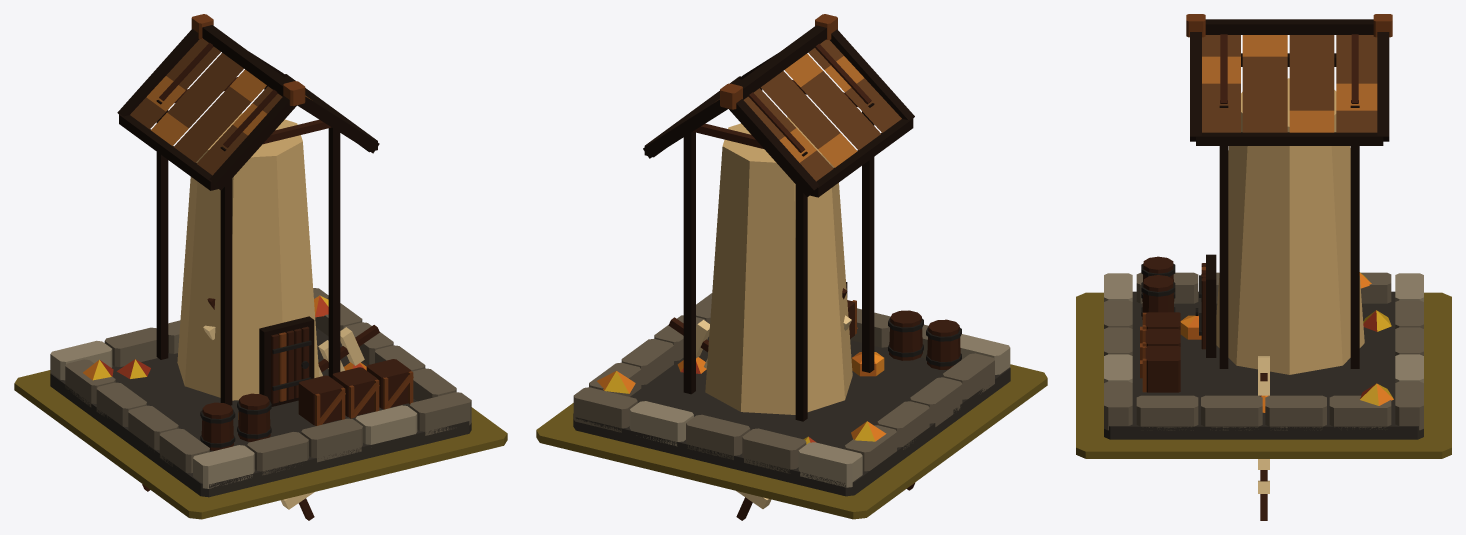
File: mill_t3.glb
The picture shows the model from 3 angles, left to right: view 1: azimuth 30°, elevation 25°; view 2: azimuth 150°, elevation 25°; view 3: azimuth 270°, elevation 25°; orthographic projection. The views are drawn at different scales.
Parts seen in each view (by area): view 1: MMR | mill | T03 Architecture.001, MMR | mill | Tier 03 Ground.001, MMR | mill | T03 Wind Rotor.001, MMR | mill | T03 Autumn Dressing.001; view 2: MMR | mill | T03 Architecture.001, MMR | mill | Tier 03 Ground.001, MMR | mill | T03 Autumn Dressing.001, MMR | mill | T03 Wind Rotor.001; view 3: MMR | mill | T03 Architecture.001, MMR | mill | Tier 03 Ground.001, MMR | mill | T03 Autumn Dressing.001, MMR | mill | T03 Wind Rotor.001.
Part boxes in pixels (x1,y1,x2,y2): MMR | mill | T03 Architecture.001: (50,14,471,497); MMR | mill | Tier 03 Ground.001: (14,370,507,519); MMR | mill | T03 Wind Rotor.001: (142,298,379,520); MMR | mill | T03 Autumn Dressing.001: (83,295,366,419); MMR | mill | T03 Architecture.001: (573,14,1010,496); MMR | mill | Tier 03 Ground.001: (536,364,1047,519); MMR | mill | T03 Autumn Dressing.001: (597,352,886,444); MMR | mill | T03 Wind Rotor.001: (668,288,915,520); MMR | mill | T03 Architecture.001: (1104,14,1423,439); MMR | mill | Tier 03 Ground.001: (1076,292,1451,458); MMR | mill | T03 Autumn Dressing.001: (1180,272,1393,412); MMR | mill | T03 Wind Rotor.001: (1258,356,1269,520).
Bounding box in the file's own units: 2.35 × 3.31 × 2.35.
1 material, 1 textured.
